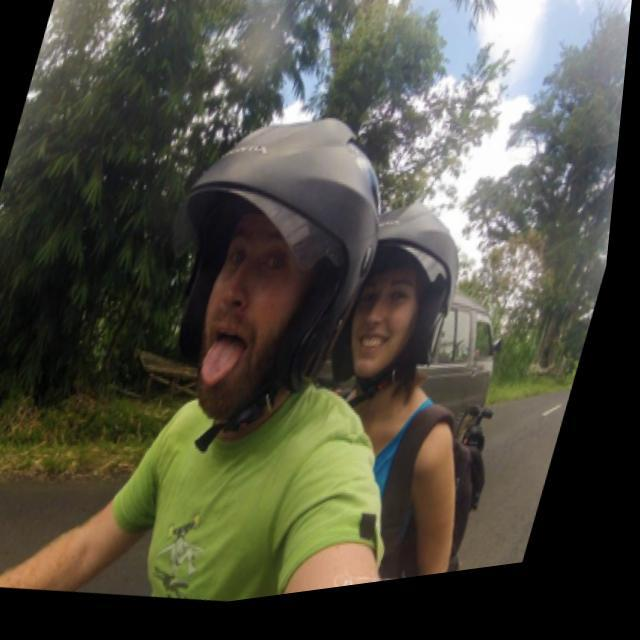Helmet: (158, 95, 388, 418)
